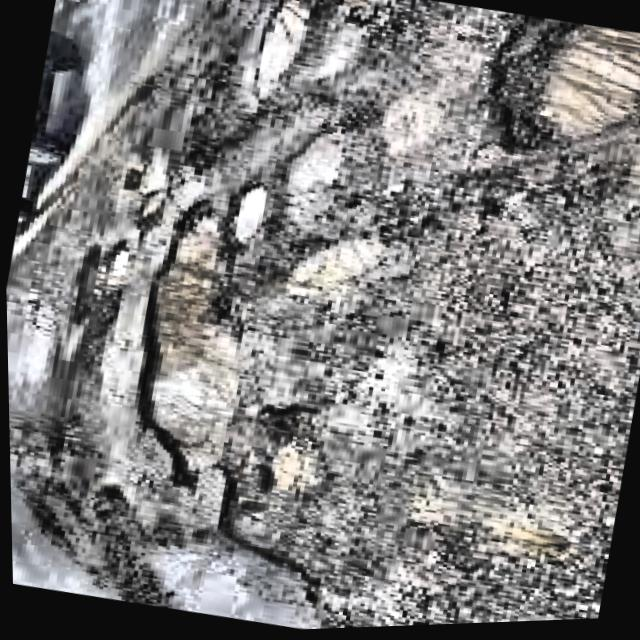pothole: (140, 208, 236, 483), (482, 12, 640, 145)
